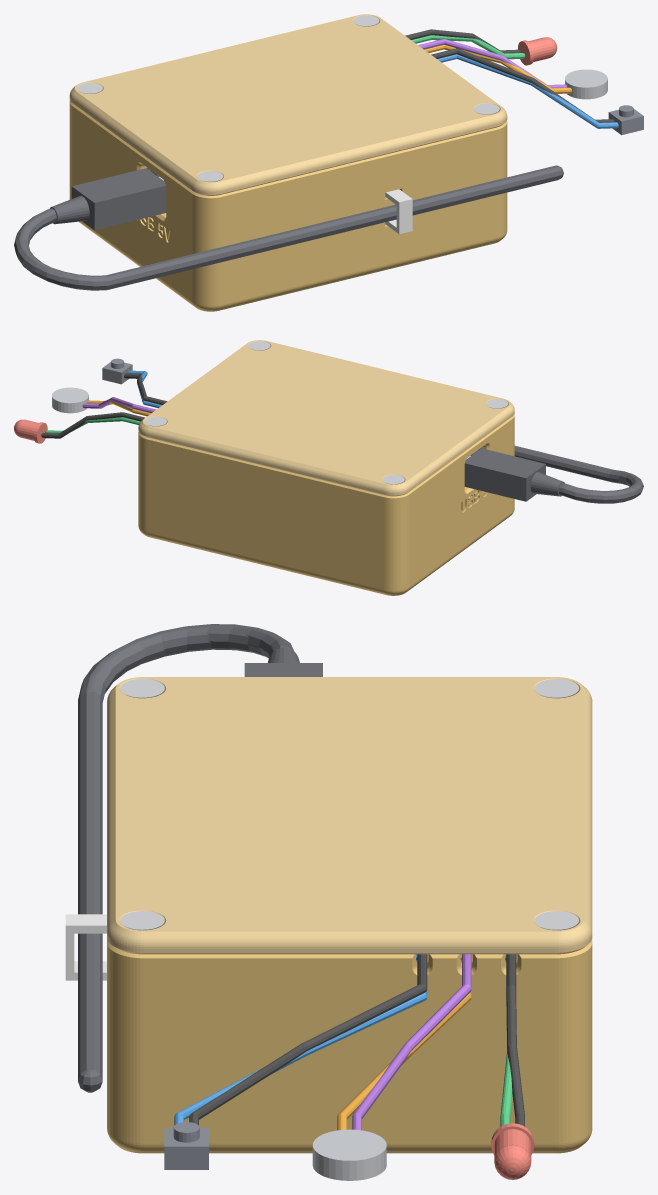
File: assembly-usb-30pin.glb
3 views of the same model, one above another, from view 1: azimuth 30°, elevation 25°; view 2: azimuth 150°, elevation 25°; view 3: azimuth 270°, elevation 25° (orthographic). The views are drawn at different scales.
Parts seen in each view (by area): view 1: Lid (printed), Box body (printed), USB cable from the power bank, GND (black), Coin vibration motor, Paw button, GPIO 27 (blue), 4 x M3x10 countersunk lid screws, Cable tie (strain relief), LED, Paw push button, Motor -, to collector (purple), LED signal, GPIO 25 (green) (+1 smaller); view 2: Box body (printed), Lid (printed), USB cable from the power bank, GND (black), Coin vibration motor, 4 x M3x10 countersunk lid screws, LED, Paw push button, Motor -, to collector (purple); view 3: Lid (printed), Box body (printed), USB cable from the power bank, GND (black), Coin vibration motor, 4 x M3x10 countersunk lid screws, Motor -, to collector (purple), Paw push button, LED, Paw button, GPIO 27 (blue), Cable tie (strain relief), Motor +, after R3 (orange).
Part boxes in pixels (<box>): Lid (printed): <box>69,14,507,195</box>; Box body (printed): <box>69,100,507,311</box>; USB cable from the power bank: <box>14,165,563,290</box>; GND (black): <box>405,29,614,122</box>; Coin vibration motor: <box>565,69,607,99</box>; Paw button, GPIO 27 (blue): <box>437,54,618,128</box>; 4 x M3x10 countersunk lid screws: <box>77,15,499,182</box>; Cable tie (strain relief): <box>385,189,412,234</box>; LED: <box>518,37,557,65</box>; Paw push button: <box>608,105,643,135</box>; Motor -, to collector (purple): <box>418,39,566,88</box>; LED signal, GPIO 25 (green): <box>411,35,525,59</box>; Box body (printed): <box>138,414,514,595</box>; Lid (printed): <box>138,340,514,496</box>; USB cable from the power bank: <box>464,445,643,503</box>; GND (black): <box>41,373,167,438</box>; Coin vibration motor: <box>52,387,88,413</box>; 4 x M3x10 countersunk lid screws: <box>145,341,508,484</box>; LED: <box>14,419,47,443</box>; Paw push button: <box>102,358,132,384</box>; Motor -, to collector (purple): <box>82,397,156,413</box>; Lid (printed): <box>107,677,592,954</box>; Box body (printed): <box>107,938,592,1153</box>; USB cable from the power bank: <box>78,624,322,1092</box>; GND (black): <box>189,954,524,1126</box>; Coin vibration motor: <box>312,1129,386,1180</box>; 4 x M3x10 countersunk lid screws: <box>120,679,578,930</box>; Motor -, to collector (purple): <box>352,954,471,1130</box>; Paw push button: <box>164,1122,208,1169</box>; LED: <box>491,1123,534,1179</box>; Paw button, GPIO 27 (blue): <box>174,954,427,1125</box>; Cable tie (strain relief): <box>65,914,106,980</box>; Motor +, after R3 (orange): <box>337,954,471,1130</box>.
Bounding box in the file's own units: 0.1688 × 0.033 × 0.0711.
